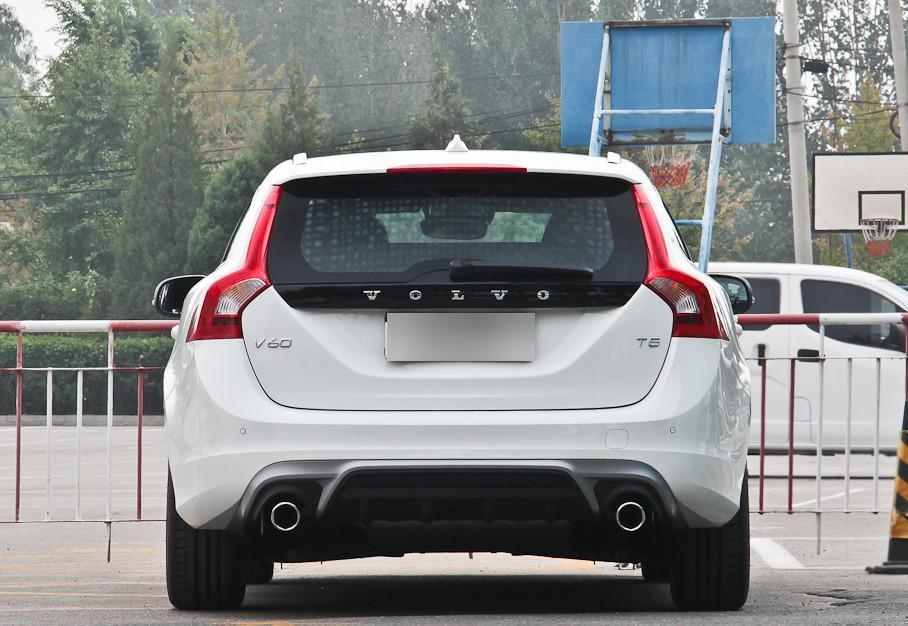Wagon: (153, 149, 753, 612)
